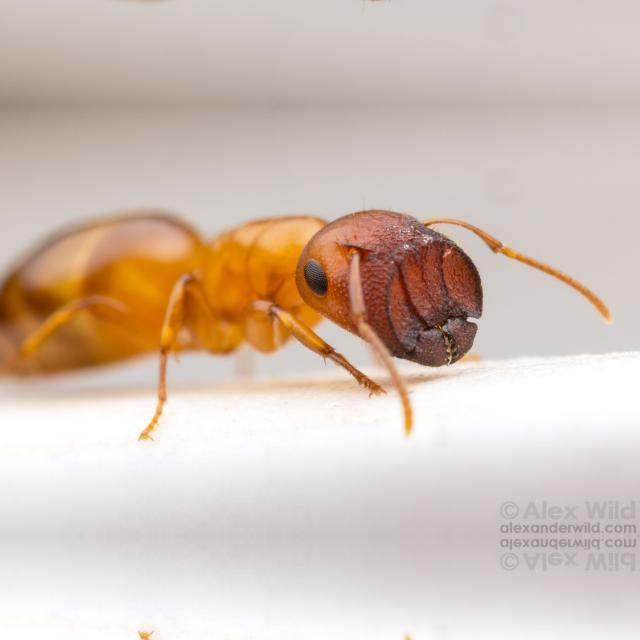Colobopsis: (4, 180, 586, 424)
